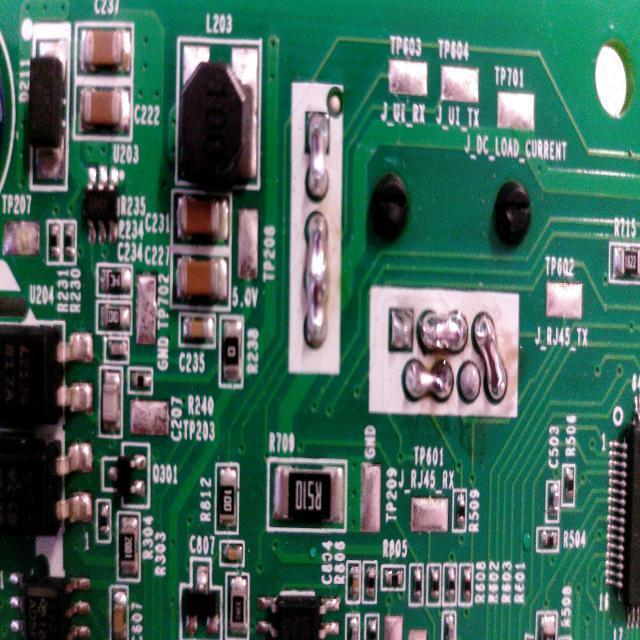Soldering shorted: (302, 211, 333, 348), (474, 306, 507, 412), (402, 356, 458, 413), (416, 305, 468, 357), (305, 112, 331, 202)
